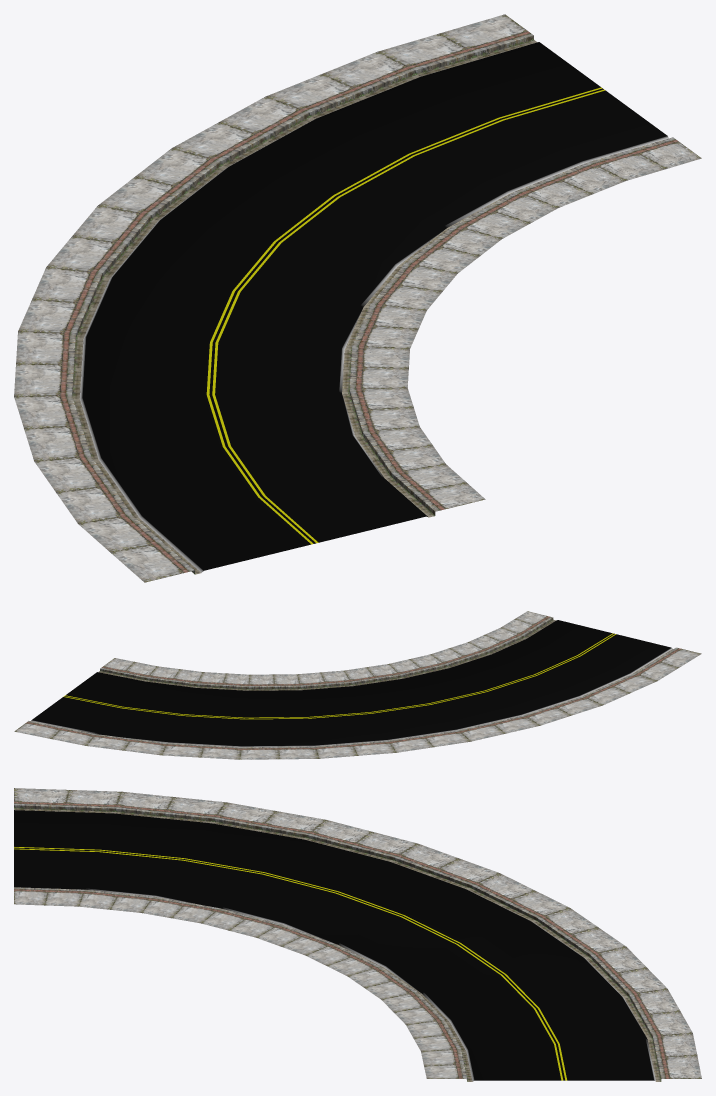
File: Road-Double_LongR-SidewalksA.fbx
3 renders of one model, top to bottom at view 1: azimuth 30°, elevation 25°; view 2: azimuth 150°, elevation 25°; view 3: azimuth 270°, elevation 25°, orthographic. The views are drawn at different scales.
Visible parts, largest first — view 1: Road-Double_LongR-SidewalksA; view 2: Road-Double_LongR-SidewalksA; view 3: Road-Double_LongR-SidewalksA.
Part boxes in pixels (bbox=[...]): Road-Double_LongR-SidewalksA: bbox=[14, 14, 701, 582]; Road-Double_LongR-SidewalksA: bbox=[14, 611, 701, 759]; Road-Double_LongR-SidewalksA: bbox=[14, 788, 701, 1081].
Size of the model in its own units: 5250 by 25 by 5250.
